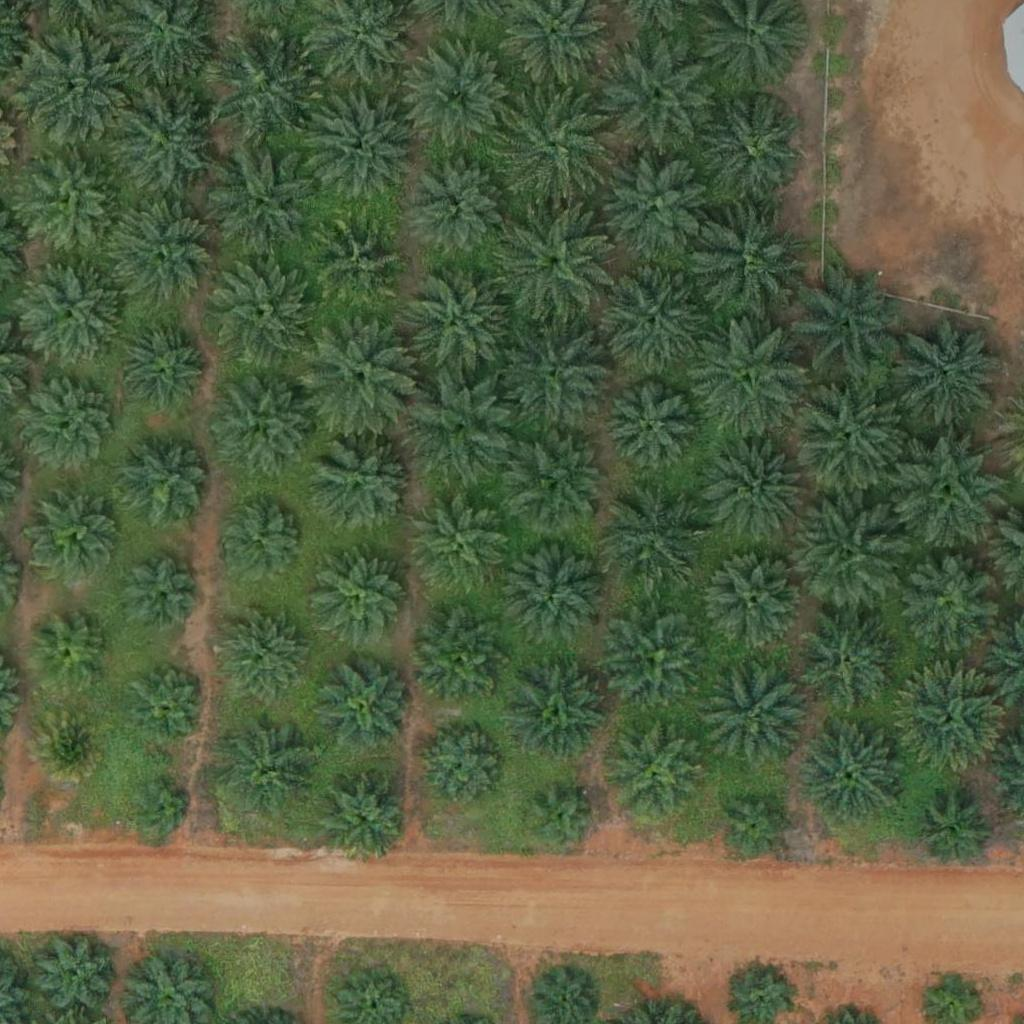Kelapa_Sawit: (895, 318, 1008, 432), (893, 434, 1006, 548), (793, 269, 906, 383), (17, 32, 130, 145), (403, 41, 516, 154), (498, 208, 611, 321), (497, 313, 610, 426), (400, 262, 513, 375), (109, 85, 222, 198), (602, 40, 714, 154), (793, 375, 905, 489), (696, 208, 808, 322), (895, 668, 1007, 781), (206, 31, 318, 144), (494, 88, 606, 201), (790, 500, 902, 613), (693, 322, 805, 435), (597, 267, 709, 380), (406, 369, 518, 482), (304, 318, 416, 431), (203, 257, 315, 370), (599, 152, 711, 265), (303, 85, 415, 198), (207, 144, 319, 257), (798, 616, 898, 717), (802, 723, 902, 824), (704, 439, 804, 540), (705, 552, 805, 653), (705, 661, 805, 762), (604, 484, 704, 585), (606, 610, 706, 711), (606, 722, 706, 823), (512, 434, 612, 535), (506, 542, 606, 643), (507, 664, 607, 765), (413, 491, 513, 592), (412, 608, 512, 709), (311, 433, 411, 534), (310, 549, 410, 650), (214, 377, 314, 478), (111, 199, 211, 300), (22, 150, 122, 251), (704, 100, 804, 200), (899, 556, 999, 656), (313, 766, 413, 866), (219, 716, 319, 816), (21, 262, 121, 362), (19, 373, 119, 473), (314, 219, 402, 308), (418, 722, 506, 810), (32, 493, 120, 581), (606, 386, 693, 474), (323, 662, 410, 750), (217, 493, 304, 581), (219, 605, 306, 693), (116, 323, 203, 411), (122, 442, 209, 530), (415, 162, 502, 250), (30, 929, 117, 1017), (32, 618, 107, 694), (122, 557, 197, 633), (524, 781, 599, 857), (129, 666, 204, 742), (33, 707, 108, 783), (916, 795, 991, 870), (720, 789, 795, 864), (131, 779, 193, 842)
